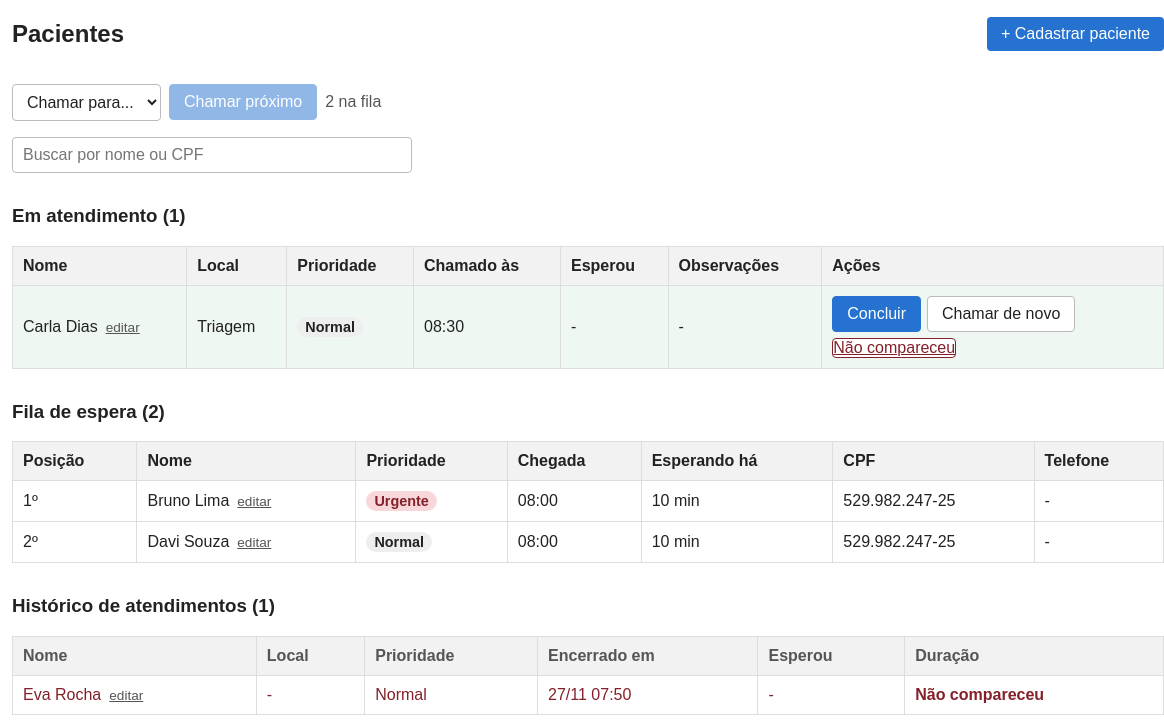
o botão só liga depois de escolher o local
expect the button "Chamar próximo" is disabled: met, box [169,84,317,120]
Select "Triagem" in the dropdown named "Chamar para" at (86, 102), box [12,84,161,121]
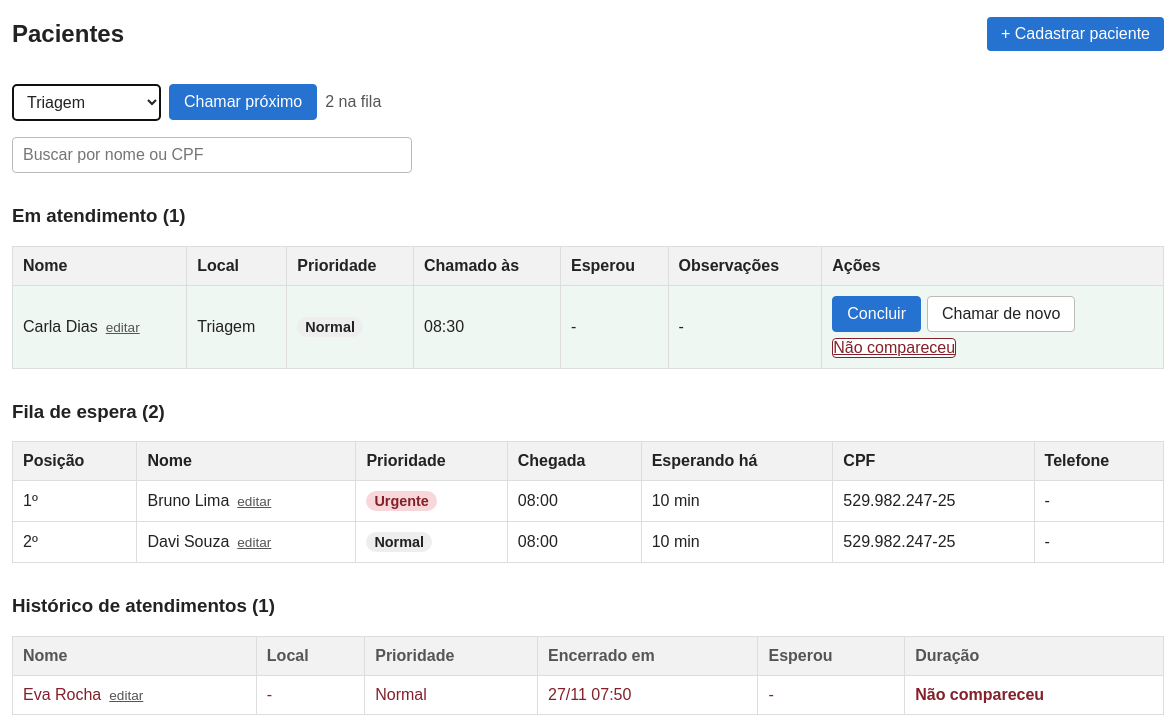
expect the button "Chamar próximo" is enabled: met, box [169,84,317,120]
